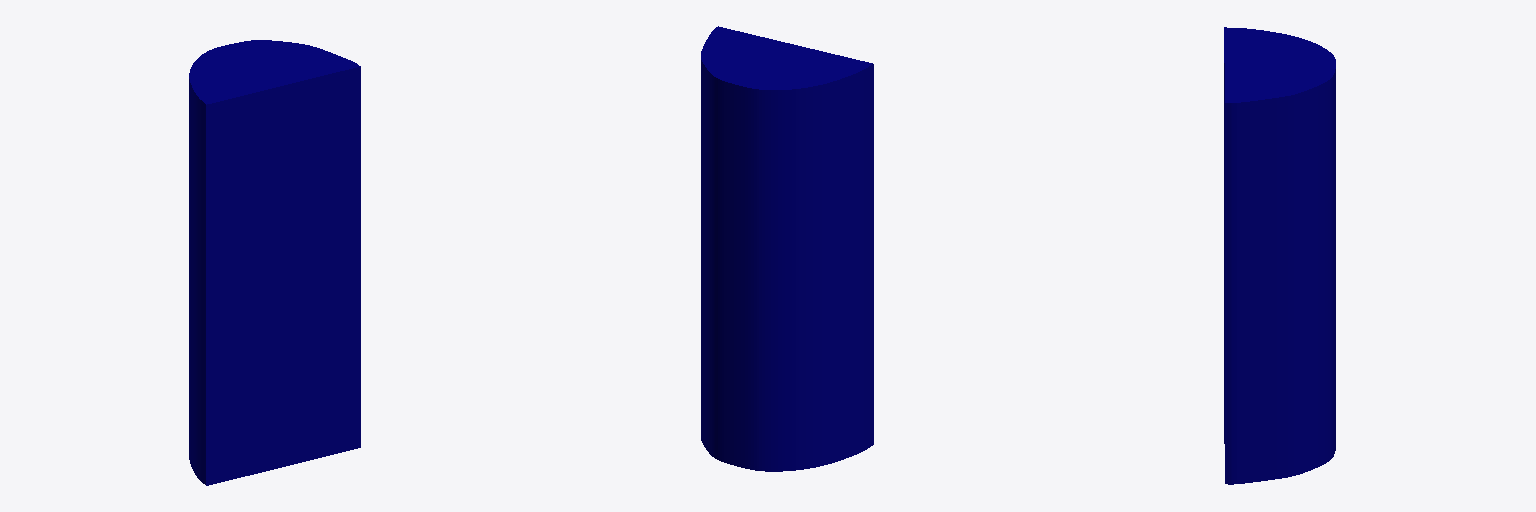
Rendered from Rainbow_blue.obj.
3 renders of one model, left to right at view 1: azimuth 30°, elevation 25°; view 2: azimuth 150°, elevation 25°; view 3: azimuth 270°, elevation 25°, orthographic.
Visible parts, largest first — view 1: Line001; view 2: Line001; view 3: Line001.
Boxes of the visible parts, <box> form: Line001: <box>189,40,360,485</box>; Line001: <box>701,26,873,471</box>; Line001: <box>1224,27,1335,484</box>.
Size of the model in its own units: 27.6 by 64.77 by 17.27.